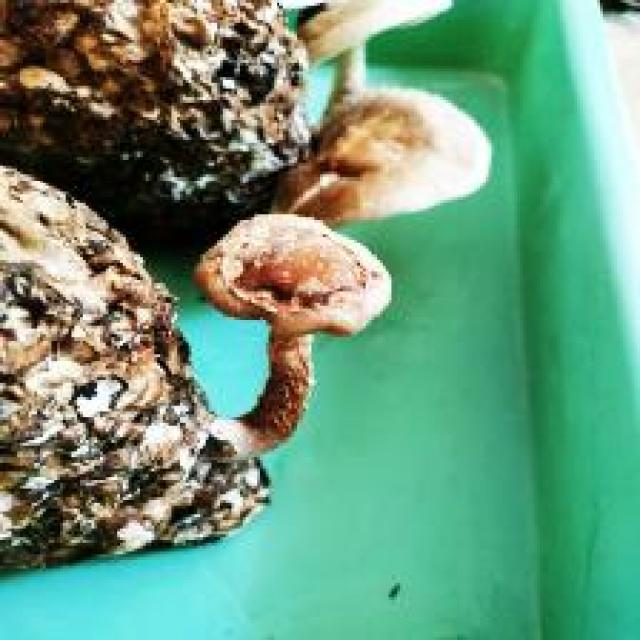chanterelle: (3, 0, 494, 583)
